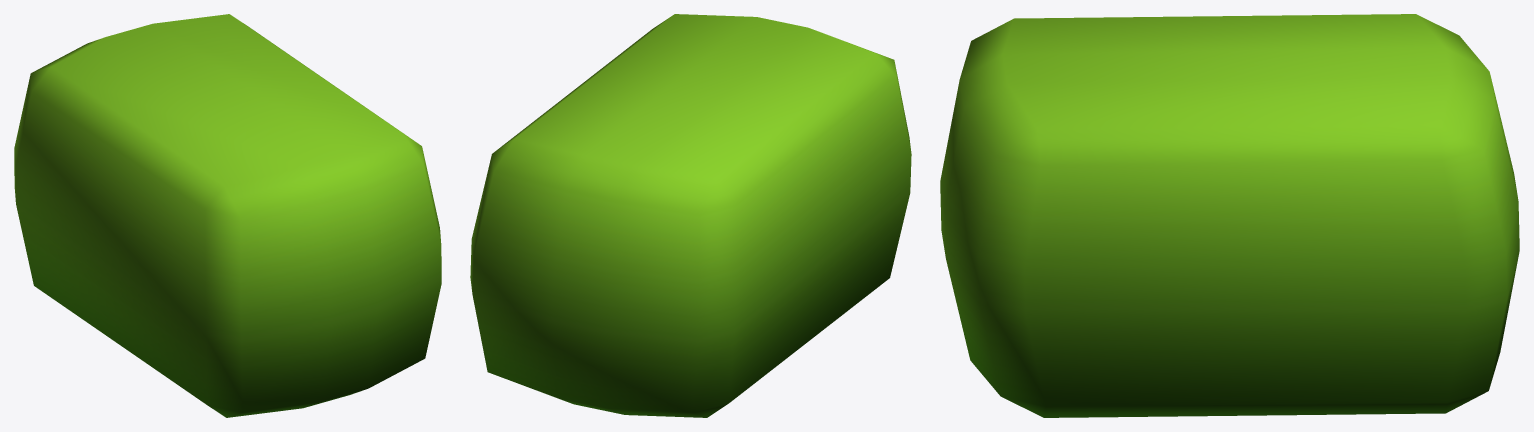
Rendered from Bush_1_1.obj.
3 views of the same model, side by side, from view 1: azimuth 30°, elevation 25°; view 2: azimuth 150°, elevation 25°; view 3: azimuth 270°, elevation 25° (orthographic). The views are drawn at different scales.
Visible parts, largest first — view 1: Bush_1_1; view 2: Bush_1_1; view 3: Bush_1_1.
Boxes of the visible parts, x1,y1,x2,y2 form: Bush_1_1: (14,14,441,417); Bush_1_1: (470,14,911,417); Bush_1_1: (940,14,1519,417).
Bounding box in the file's own units: 0.799 × 0.728 × 1.29.
